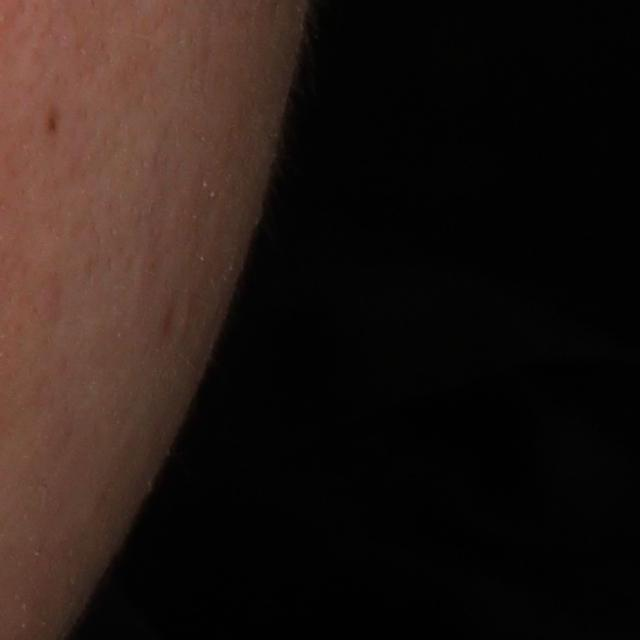nevus: (46, 114, 62, 139)
